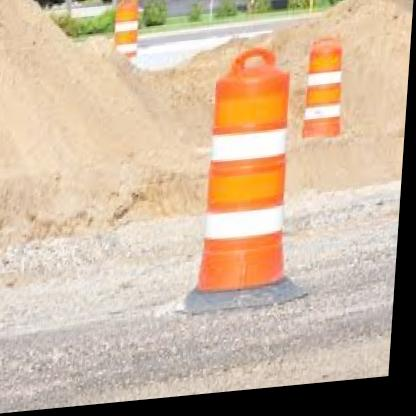obstacle: (202, 49, 302, 304), (305, 46, 350, 149)
